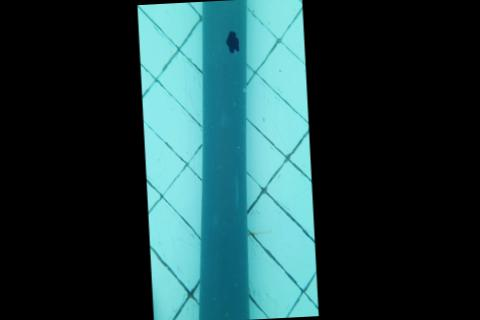kebocoran: (225, 30, 240, 55)
